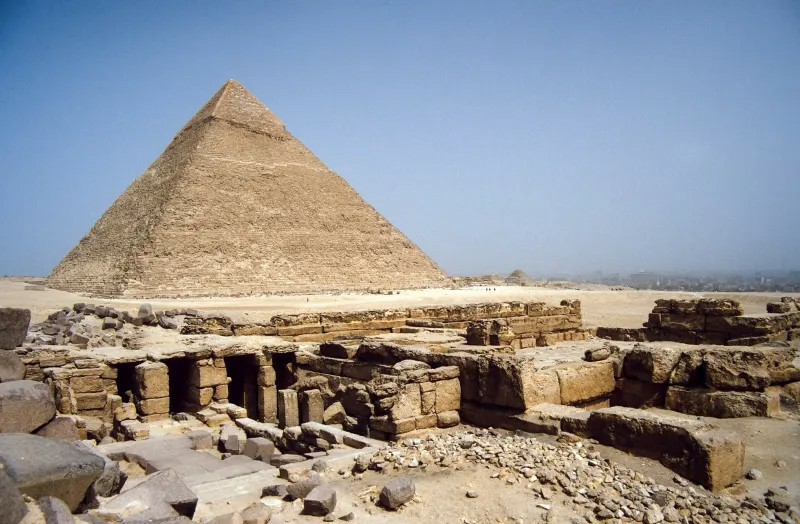Pyramid: (47, 79, 457, 295)
